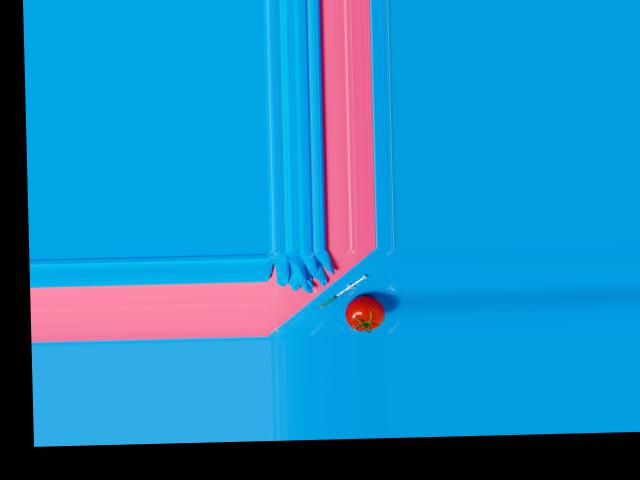tomato: (344, 294, 383, 330)
